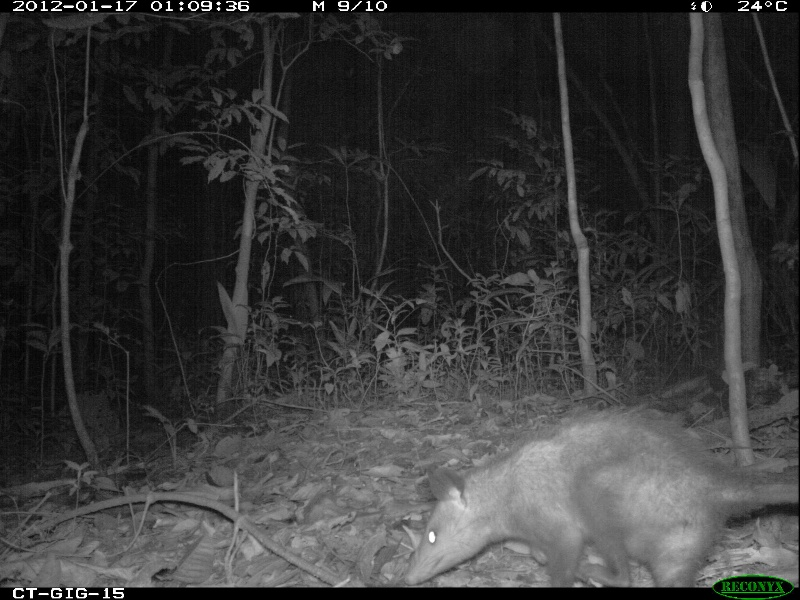opossum: (407, 405, 776, 585)
